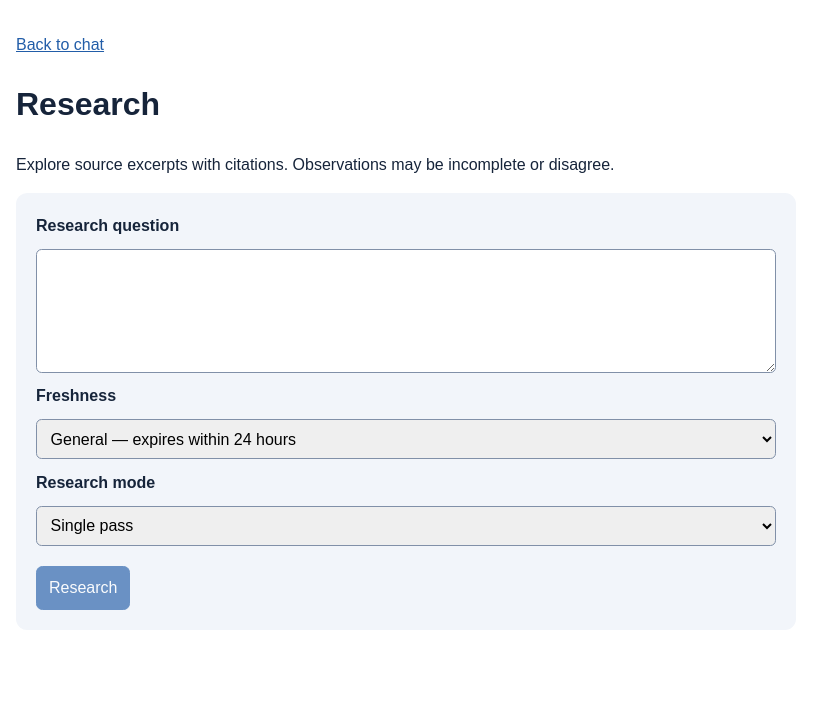
Test: research page › keeps single-pass as the default and renders a bounded partial result with every visible gap
Type "Synthetic star color?" into the text box labelled "Research question" at (406, 311), box [36,249,776,373]
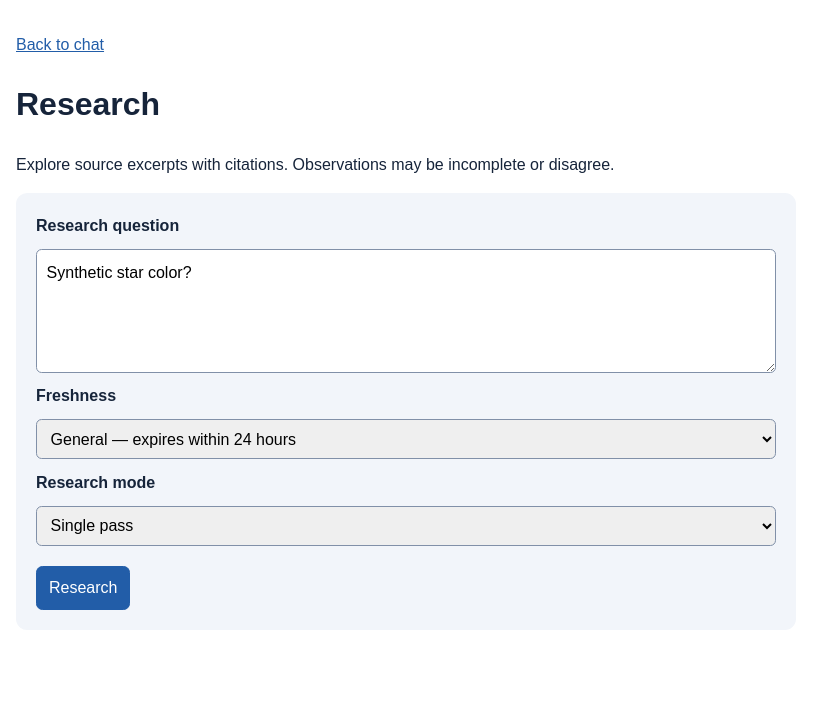
Select "Bounded follow-up research" in the dropdown labelled "Research mode" at (406, 526), box [36,506,776,546]
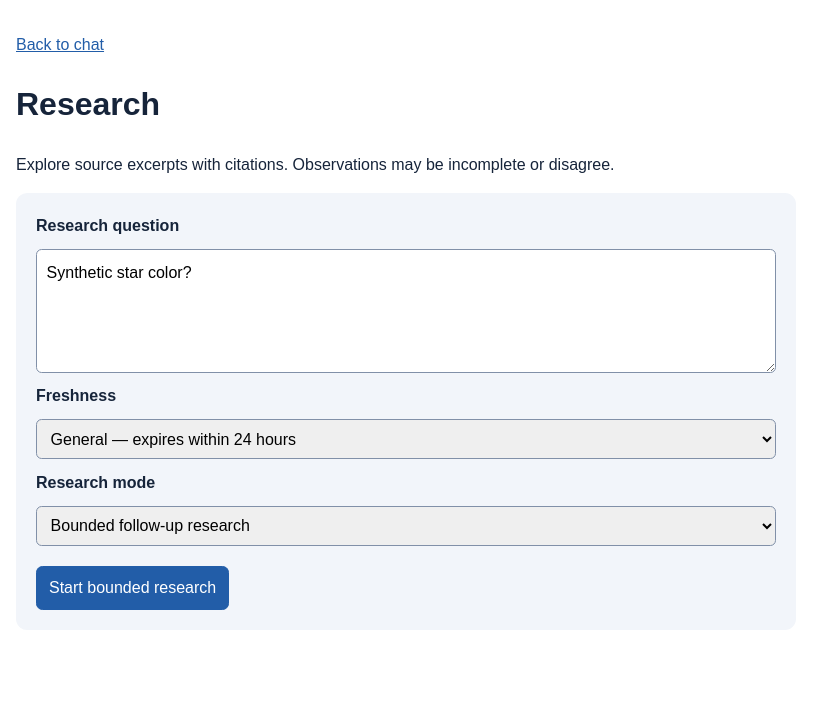
Click the button "Start bounded research" at (133, 588), box [36,566,229,610]
(page scrolled)
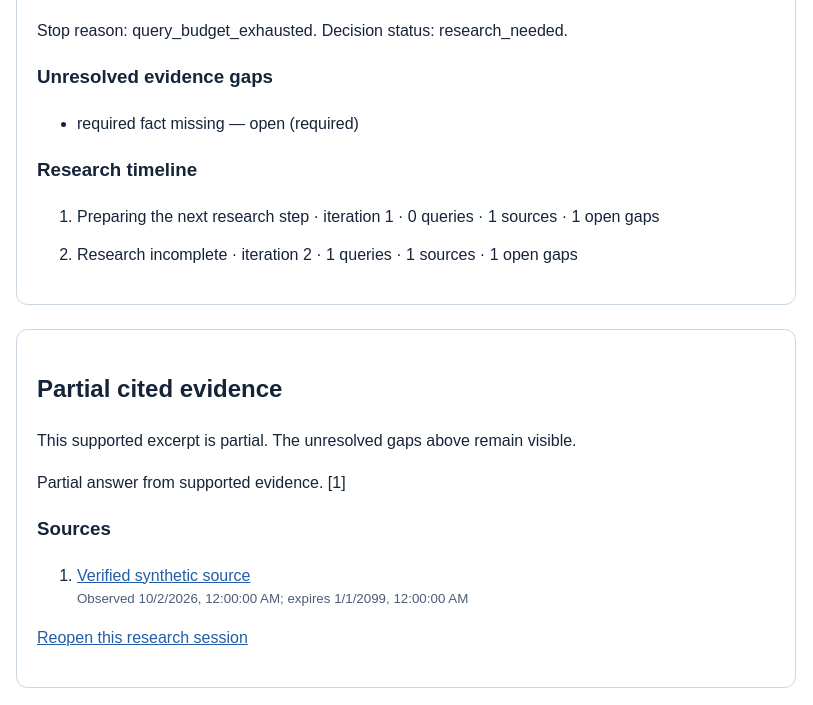
Result: the text "Partial answer from supported evidence. [1]" is shown at [37,474,346,491]
Result: the text "Decision status: research_needed" is shown at [37,22,568,39]
Result: the list item "required fact missing — open (required)" is shown at [77,115,359,132]
